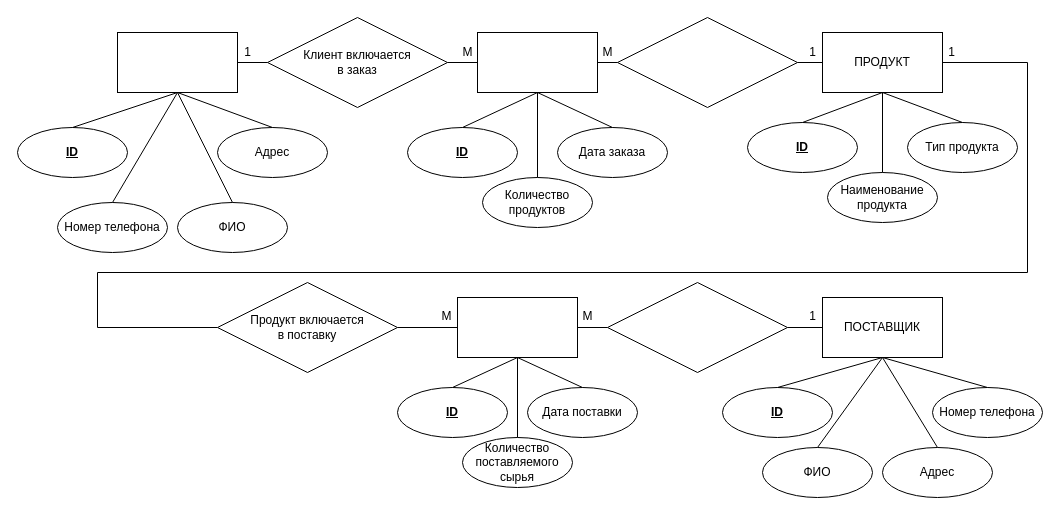
Some shapes in this 1060 by 515 pixel diagram are drawn without their labels. Each missing label, with the centre of its shape:
"ЗАКАЗ" goes at [537,62].
"КЛИЕНТ" goes at [177,62].
"ПОСТАВКА" goes at [517,327].
"Потсавщик включается в поставку" goes at [697,327].
"Продукт включается в заказ" goes at [707,62].
